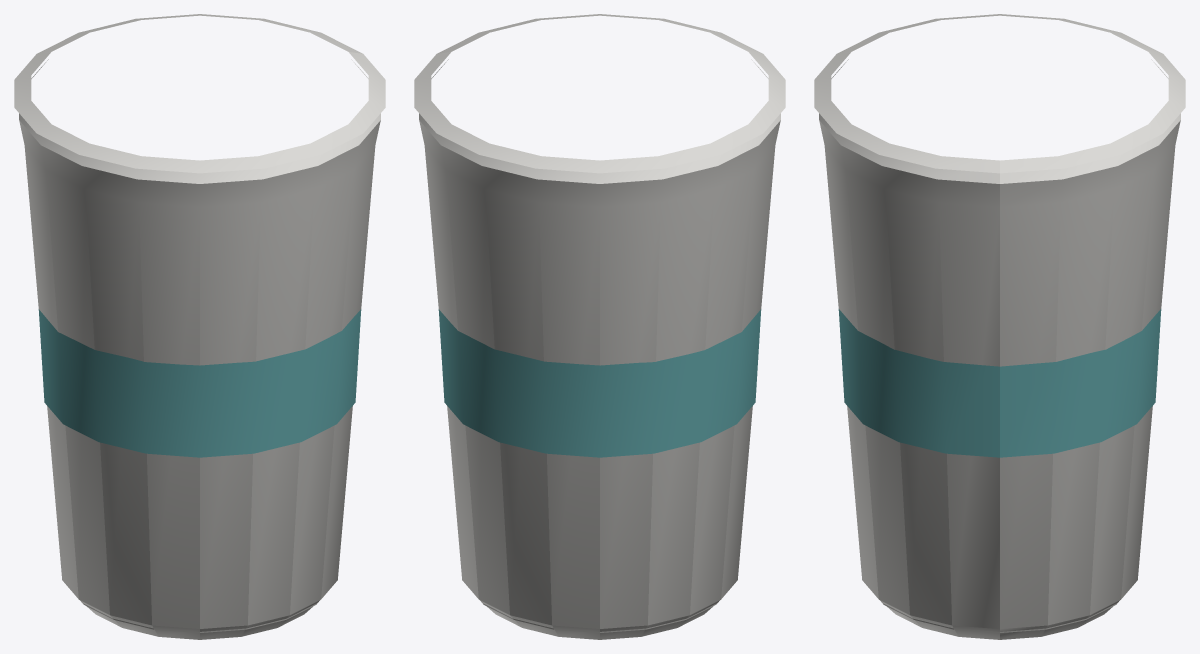
The model's file is fast-food-and-drive-thru-drinks-cup-large-b833b841__16219.glb.
The picture shows the model from 3 angles, left to right: view 1: azimuth 30°, elevation 25°; view 2: azimuth 150°, elevation 25°; view 3: azimuth 270°, elevation 25°; orthographic projection.
Parts seen in each view (by area): view 1: drinks-cup-large; view 2: drinks-cup-large; view 3: drinks-cup-large.
Boxes of the visible parts, x1,y1,x2,y2 form: drinks-cup-large: [14, 14, 385, 639]; drinks-cup-large: [414, 14, 785, 639]; drinks-cup-large: [814, 14, 1185, 639].
Bounding box in the file's own units: 0.107 × 0.1567 × 0.1053.
